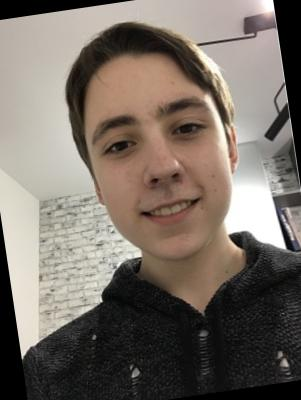without_mask: (77, 91, 248, 273)
